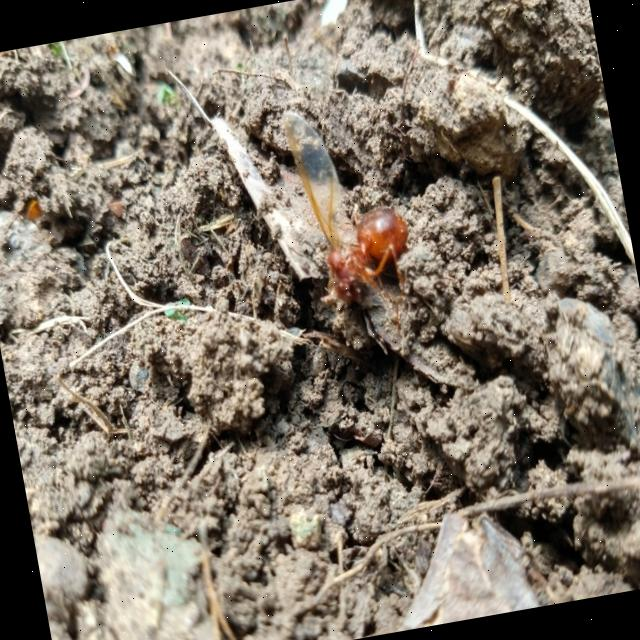Dead-Male-Alate: (280, 93, 426, 344)
